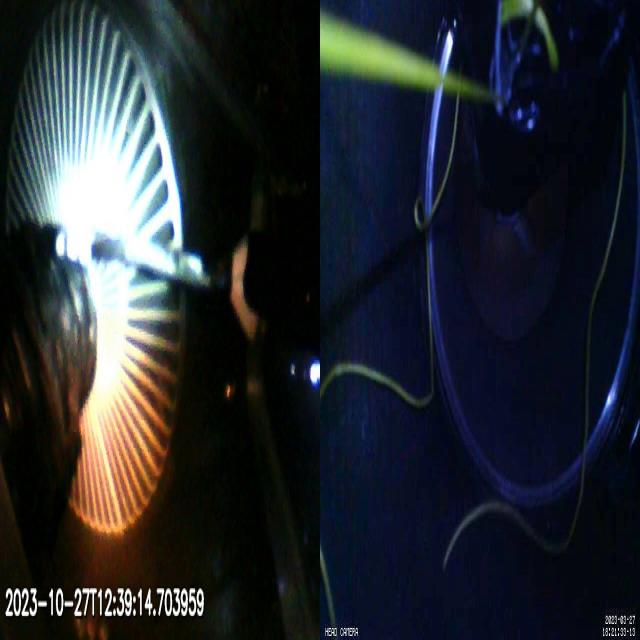head: (232, 244, 266, 338)
white-dots: (55, 223, 92, 268)
